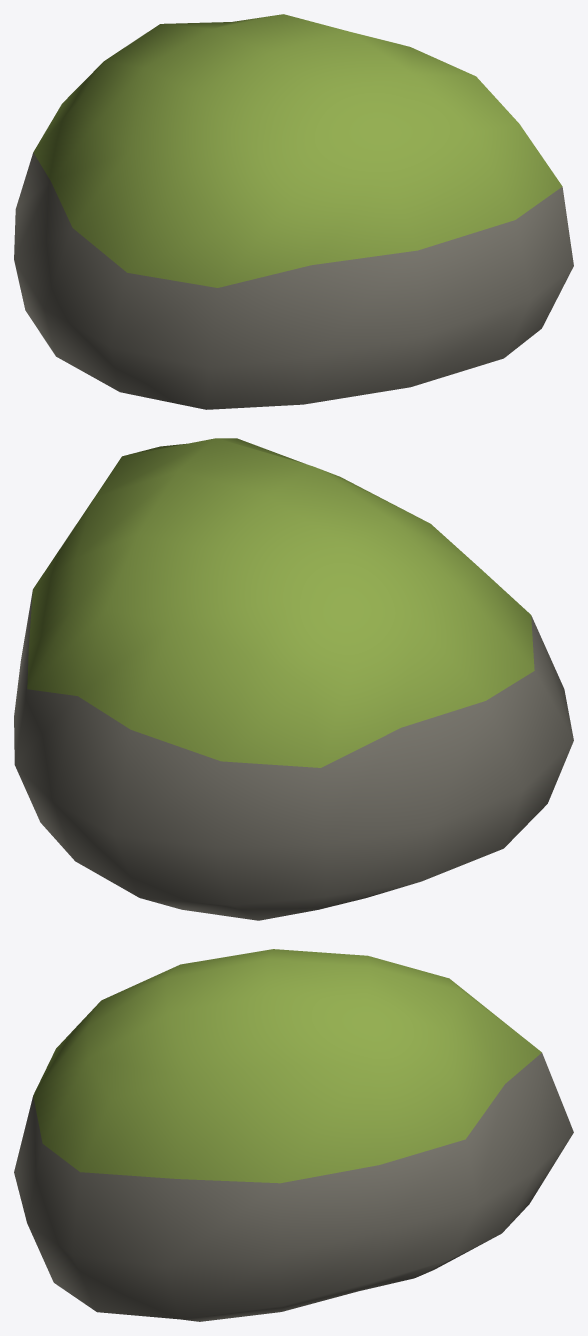
The model's file is itch_assetquest_pond_pebble_3a_moss.glb.
3 views of the same model, one above another, from view 1: azimuth 30°, elevation 25°; view 2: azimuth 150°, elevation 25°; view 3: azimuth 270°, elevation 25° (orthographic). The views are drawn at different scales.
Visible parts, largest first — view 1: Pebble_3a_Moss; view 2: Pebble_3a_Moss; view 3: Pebble_3a_Moss.
Part boxes in pixels (box(x1,y1,x2,y2)): Pebble_3a_Moss: box(14, 14, 573, 409); Pebble_3a_Moss: box(14, 438, 573, 920); Pebble_3a_Moss: box(14, 949, 573, 1321).
Size of the model in its own units: 0.3973 by 0.2557 by 0.42.
